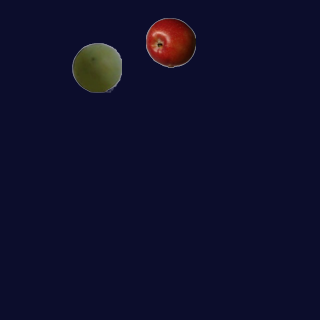Apple Braeburn: (145, 17, 195, 67)
Grape White 4: (71, 42, 121, 92)
